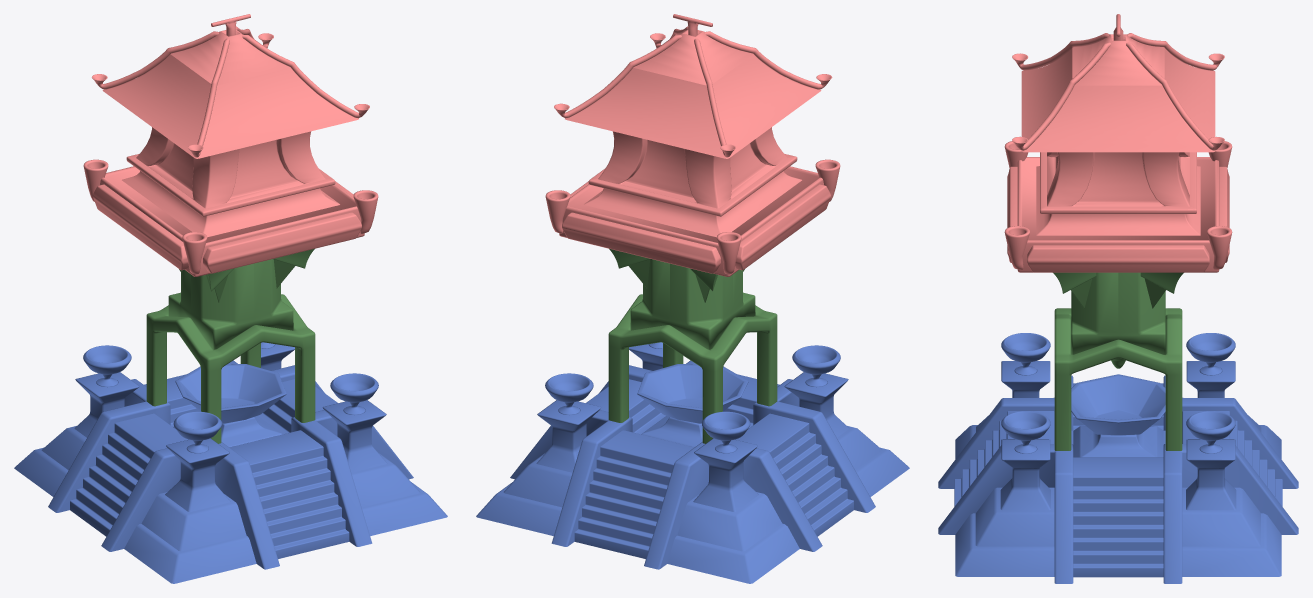
The model's file is Tower_LP.fbx.
The picture shows the model from 3 angles, left to right: view 1: azimuth 30°, elevation 25°; view 2: azimuth 150°, elevation 25°; view 3: azimuth 270°, elevation 25°; orthographic projection. The views are drawn at different scales.
Visible parts, largest first — view 1: Tower_Base_01_LP, Tower_Top_02_LP, Tower_Top_01_LP, Tower_Base_03_LP, Tower_Base_02_LP, Tower_Middle_01_LP, Tower_Middle_02_LP, Tower_Base_04_LP; view 2: Tower_Base_01_LP, Tower_Top_02_LP, Tower_Top_01_LP, Tower_Base_03_LP, Tower_Base_02_LP, Tower_Middle_01_LP, Tower_Middle_02_LP, Tower_Base_04_LP; view 3: Tower_Base_01_LP, Tower_Top_02_LP, Tower_Top_01_LP, Tower_Base_03_LP, Tower_Base_02_LP, Tower_Middle_01_LP, Tower_Middle_02_LP, Tower_Base_04_LP.
Part boxes in pixels (box(x1,y1,x2,y2)): Tower_Base_01_LP: box(14, 344, 447, 583); Tower_Top_02_LP: box(83, 29, 378, 274); Tower_Top_01_LP: box(92, 14, 369, 276); Tower_Base_03_LP: box(48, 360, 413, 569); Tower_Base_02_LP: box(41, 342, 420, 551); Tower_Middle_01_LP: box(146, 248, 315, 443); Tower_Middle_02_LP: box(168, 259, 293, 349); Tower_Base_04_LP: box(175, 364, 286, 423); Tower_Base_01_LP: box(476, 344, 909, 583); Tower_Top_02_LP: box(545, 29, 840, 274); Tower_Top_01_LP: box(554, 14, 832, 276); Tower_Base_03_LP: box(510, 360, 875, 569); Tower_Base_02_LP: box(503, 342, 882, 551); Tower_Middle_01_LP: box(608, 248, 777, 443); Tower_Middle_02_LP: box(630, 259, 755, 349); Tower_Base_04_LP: box(637, 364, 748, 423); Tower_Base_01_LP: box(954, 361, 1282, 577); Tower_Top_02_LP: box(1004, 34, 1232, 272); Tower_Top_01_LP: box(1012, 14, 1224, 272); Tower_Base_03_LP: box(938, 375, 1298, 583); Tower_Base_02_LP: box(975, 333, 1261, 546); Tower_Middle_01_LP: box(1053, 272, 1183, 450); Tower_Middle_02_LP: box(1071, 272, 1165, 368); Tower_Base_04_LP: box(1071, 374, 1165, 435).
Bounding box in the file's own units: 241 × 357 × 241.
